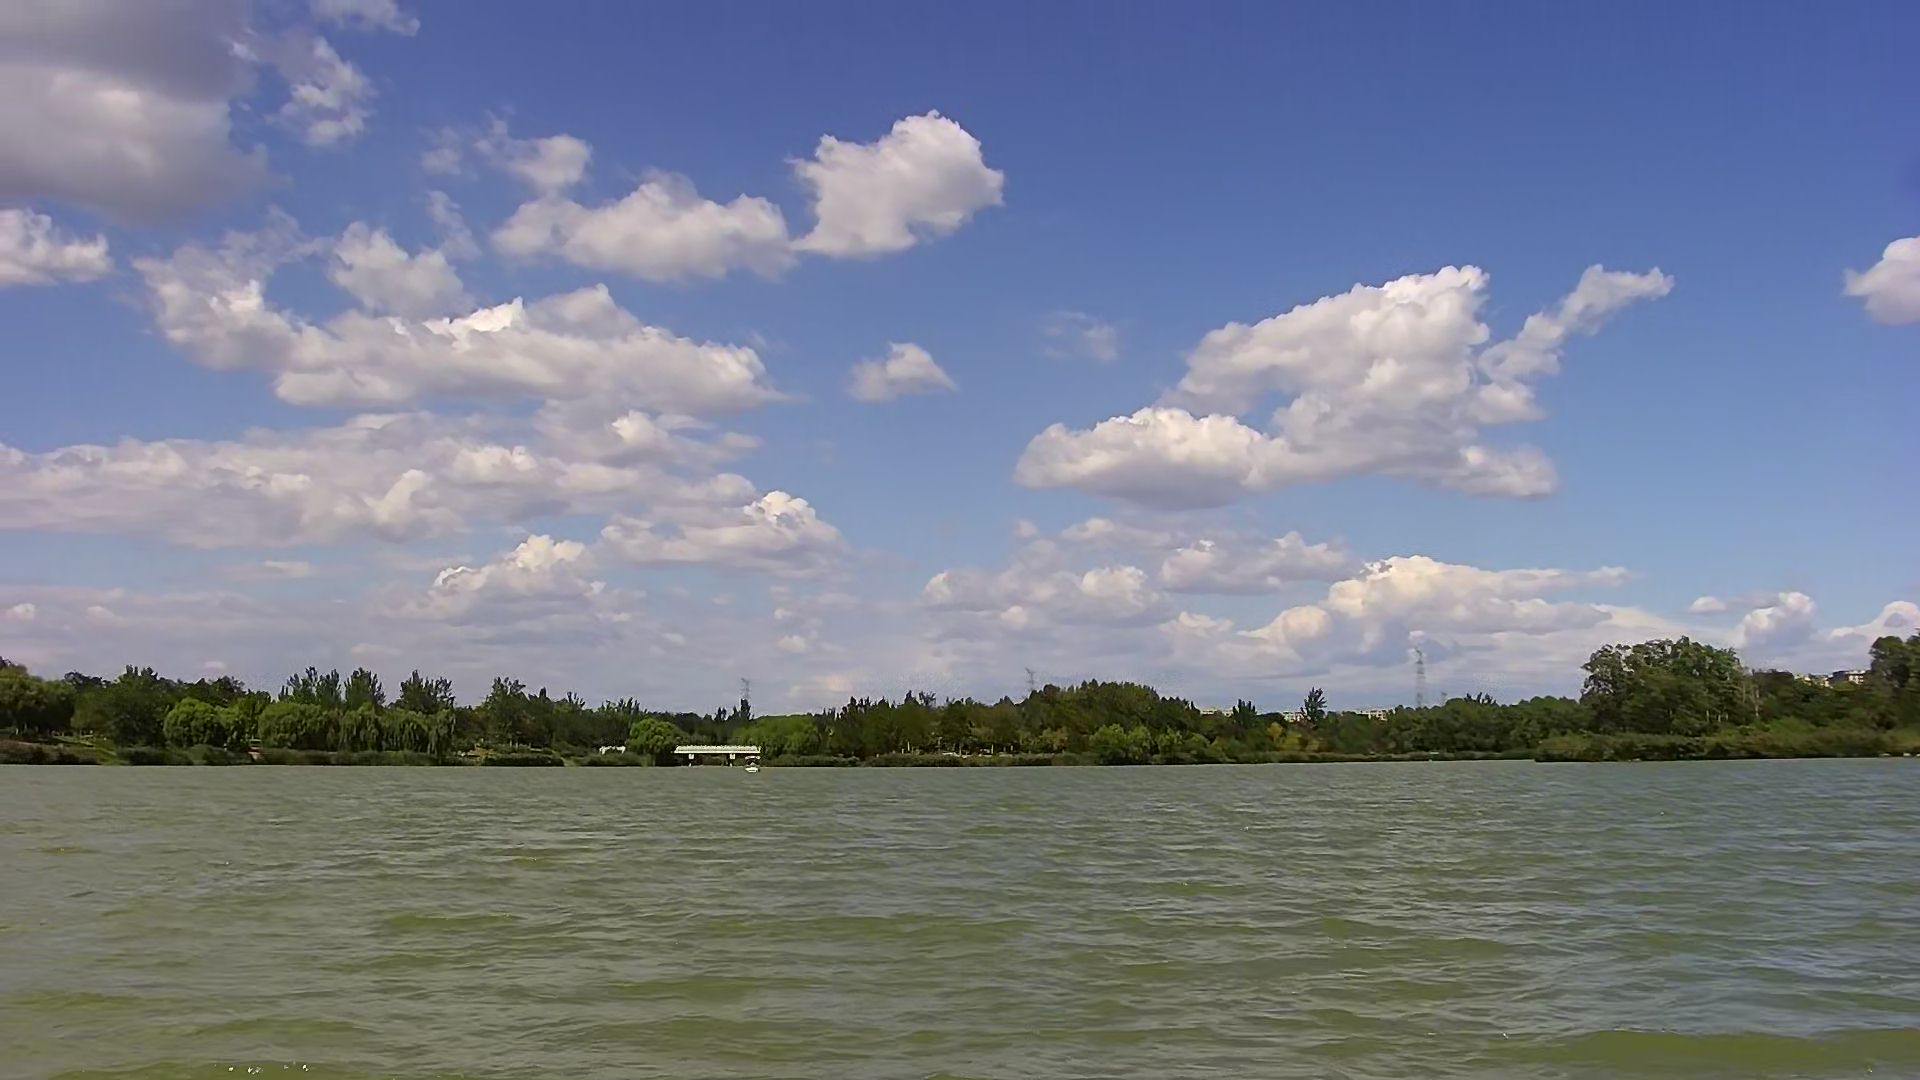bridge: (665, 742, 767, 767)
